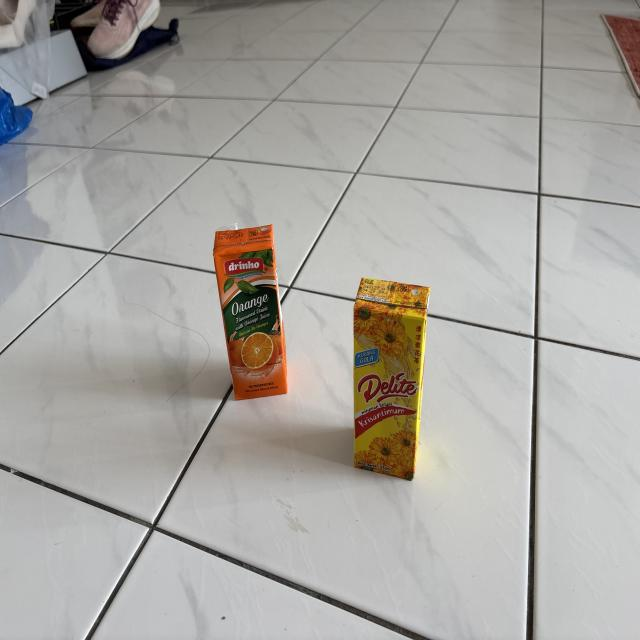drink_carton: (348, 268, 436, 492), (206, 216, 298, 409)
